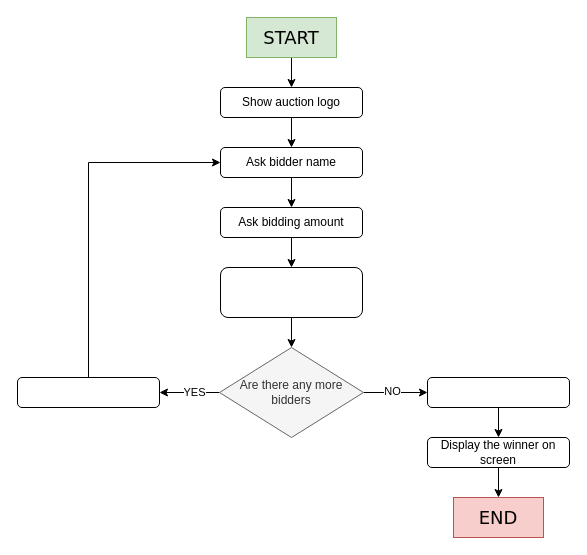
Image size: 587x555. Some labels were removed from this diagram. Here are the shapes that lost their labels. From the top down, the centre of each, then its label:
At point 291,292: "Add bidder & the amount to the dictionary".
At point 88,392: "Clear the screen".
At point 498,392: "Find the bids from the dictionary".
